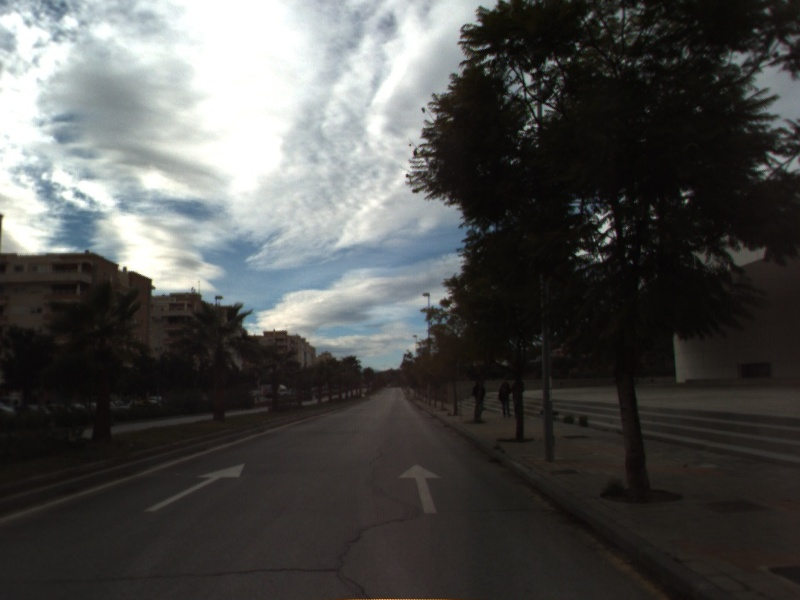STRAIGHT: (143, 461, 247, 513), (396, 462, 443, 515)
